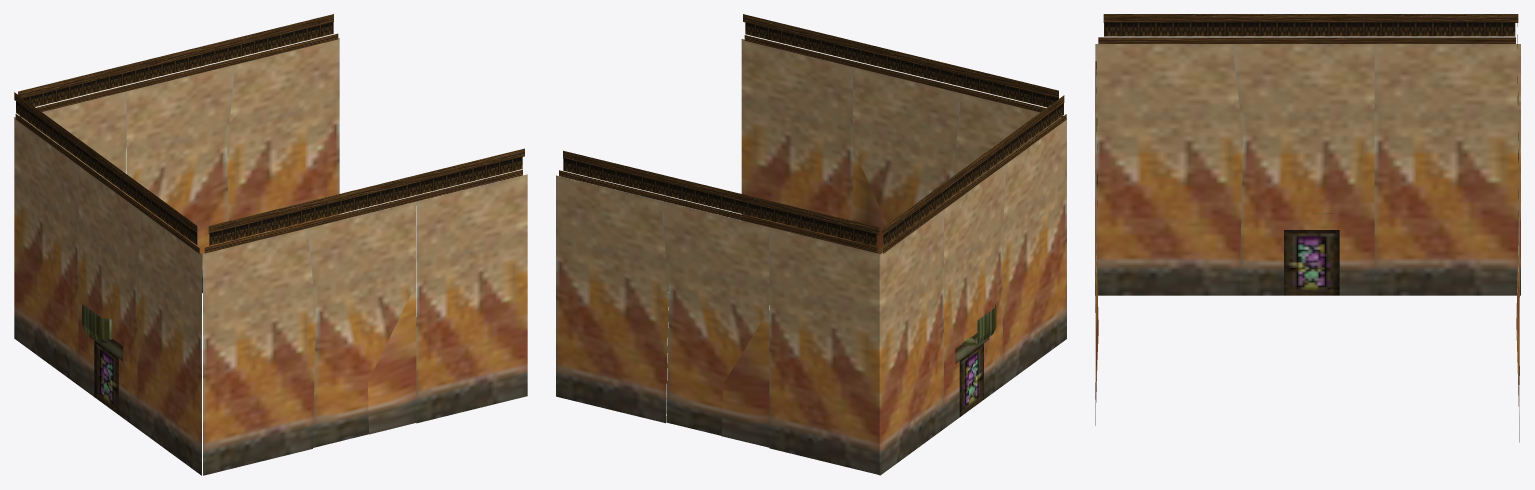
The model's file is Puesto.obj.
3 renders of one model, left to right at view 1: azimuth 30°, elevation 25°; view 2: azimuth 150°, elevation 25°; view 3: azimuth 270°, elevation 25°, orthographic. The views are drawn at different scales.
Visible parts, largest first — view 1: Puesto.002_geom-03D75826.025_material-0220115A.030, Puesto.002_geom-03D75826.025_material-0220115A.028, Puesto.002_geom-03D75826.025_material-0220115A.032, Puesto.002_geom-03D75826.025_material-00258989.032, Puesto.002_geom-03D75826.025_material-00258989.030, Puesto.002_geom-03D75826.025_material-01830D01.030, Puesto.002_geom-03D75826.025_material-01830D01.032, Puesto.002_geom-03D75826.025_material-00258989.028, Puesto.002_geom-03D75826.025_material-01830D01.028, Puesto.002_geom-03D75826.025_material-02FA7C09.028; view 2: Puesto.002_geom-03D75826.025_material-0220115A.032, Puesto.002_geom-03D75826.025_material-0220115A.028, Puesto.002_geom-03D75826.025_material-0220115A.030, Puesto.002_geom-03D75826.025_material-00258989.030, Puesto.002_geom-03D75826.025_material-00258989.032, Puesto.002_geom-03D75826.025_material-01830D01.032, Puesto.002_geom-03D75826.025_material-01830D01.030, Puesto.002_geom-03D75826.025_material-00258989.028, Puesto.002_geom-03D75826.025_material-01830D01.028, Puesto.002_geom-03D75826.025_material-02FA7C09.028; view 3: Puesto.002_geom-03D75826.025_material-0220115A.028, Puesto.002_geom-03D75826.025_material-00258989.028, Puesto.002_geom-03D75826.025_material-01830D01.028, Puesto.002_geom-03D75826.025_material-02FA7C09.028, Puesto.002_geom-03D75826.025_material-0220115A.032, Puesto.002_geom-03D75826.025_material-0220115A.030.
Boxes of the visible parts, bbox=[...] form: Puesto.002_geom-03D75826.025_material-0220115A.030: bbox=[203, 174, 527, 475]; Puesto.002_geom-03D75826.025_material-0220115A.028: bbox=[14, 117, 201, 475]; Puesto.002_geom-03D75826.025_material-0220115A.032: bbox=[21, 38, 339, 292]; Puesto.002_geom-03D75826.025_material-00258989.032: bbox=[18, 14, 338, 116]; Puesto.002_geom-03D75826.025_material-00258989.030: bbox=[204, 148, 524, 253]; Puesto.002_geom-03D75826.025_material-01830D01.030: bbox=[209, 156, 522, 245]; Puesto.002_geom-03D75826.025_material-01830D01.032: bbox=[23, 22, 333, 106]; Puesto.002_geom-03D75826.025_material-00258989.028: bbox=[14, 92, 199, 253]; Puesto.002_geom-03D75826.025_material-01830D01.028: bbox=[16, 101, 197, 245]; Puesto.002_geom-03D75826.025_material-02FA7C09.028: bbox=[94, 341, 118, 414]; Puesto.002_geom-03D75826.025_material-0220115A.032: bbox=[556, 175, 880, 474]; Puesto.002_geom-03D75826.025_material-0220115A.028: bbox=[879, 118, 1066, 475]; Puesto.002_geom-03D75826.025_material-0220115A.030: bbox=[741, 39, 1060, 253]; Puesto.002_geom-03D75826.025_material-00258989.030: bbox=[743, 14, 1062, 117]; Puesto.002_geom-03D75826.025_material-00258989.032: bbox=[559, 150, 879, 252]; Puesto.002_geom-03D75826.025_material-01830D01.032: bbox=[563, 158, 876, 246]; Puesto.002_geom-03D75826.025_material-01830D01.030: bbox=[745, 22, 1058, 107]; Puesto.002_geom-03D75826.025_material-00258989.028: bbox=[882, 95, 1066, 253]; Puesto.002_geom-03D75826.025_material-01830D01.028: bbox=[883, 103, 1063, 246]; Puesto.002_geom-03D75826.025_material-02FA7C09.028: bbox=[959, 343, 983, 416]; Puesto.002_geom-03D75826.025_material-0220115A.028: bbox=[1095, 44, 1520, 295]; Puesto.002_geom-03D75826.025_material-00258989.028: bbox=[1098, 14, 1518, 43]; Puesto.002_geom-03D75826.025_material-01830D01.028: bbox=[1104, 22, 1515, 36]; Puesto.002_geom-03D75826.025_material-02FA7C09.028: bbox=[1284, 230, 1339, 295]; Puesto.002_geom-03D75826.025_material-0220115A.032: bbox=[1516, 77, 1519, 442]; Puesto.002_geom-03D75826.025_material-0220115A.030: bbox=[1095, 61, 1098, 425].
Bounding box in the file's own units: 10.35 × 7.18 × 9.86.
